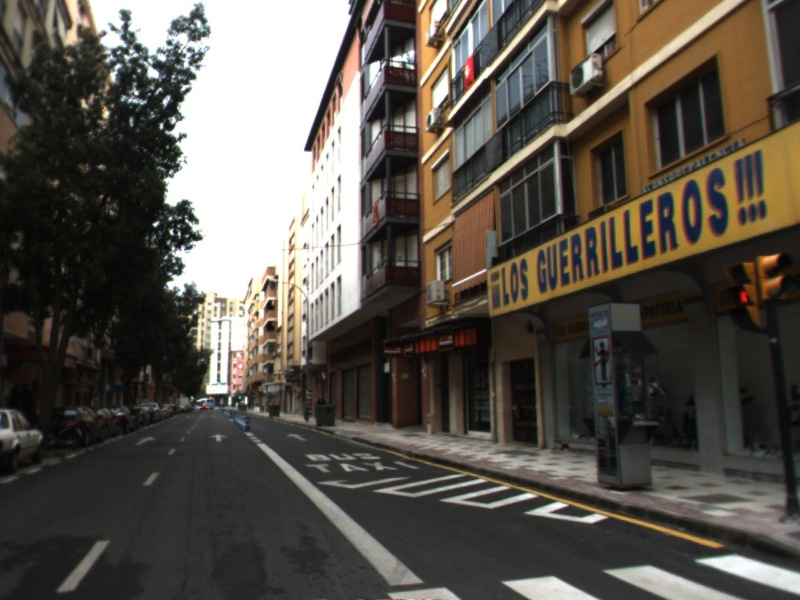STRAIGHT: (132, 434, 158, 447), (284, 431, 310, 443), (206, 432, 231, 444)
